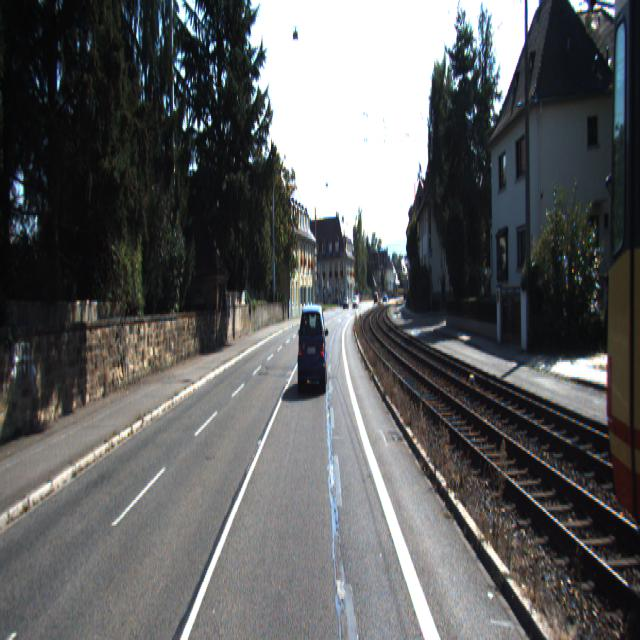Car: (592, 0, 639, 639), (298, 301, 328, 395)
